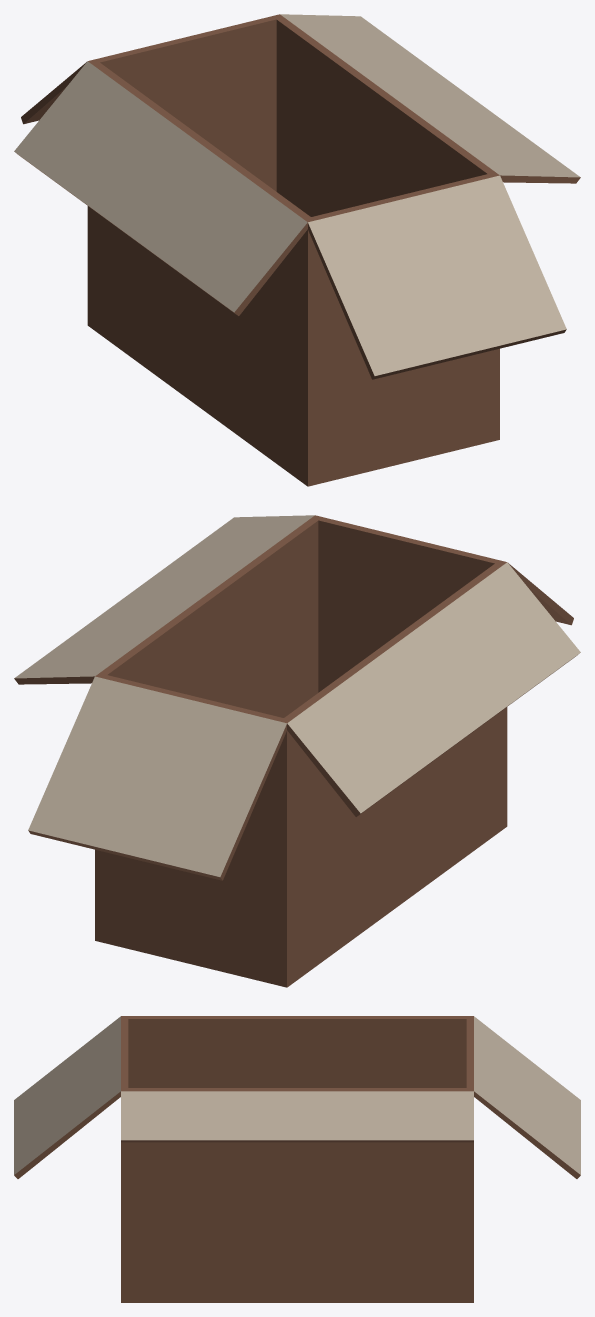
File: SM_open_box001.fbx
3 views of the same model, one above another, from view 1: azimuth 30°, elevation 25°; view 2: azimuth 150°, elevation 25°; view 3: azimuth 270°, elevation 25° (orthographic). The views are drawn at different scales.
Parts seen in each view (by area): view 1: open_box001; view 2: open_box001; view 3: open_box001.
Boxes of the visible parts, box(x1,y1,x2,y2) form: open_box001: box(14, 14, 580, 486); open_box001: box(14, 515, 580, 987); open_box001: box(14, 1016, 580, 1302).
Size of the model in its own units: 104 by 75.66 by 184.
